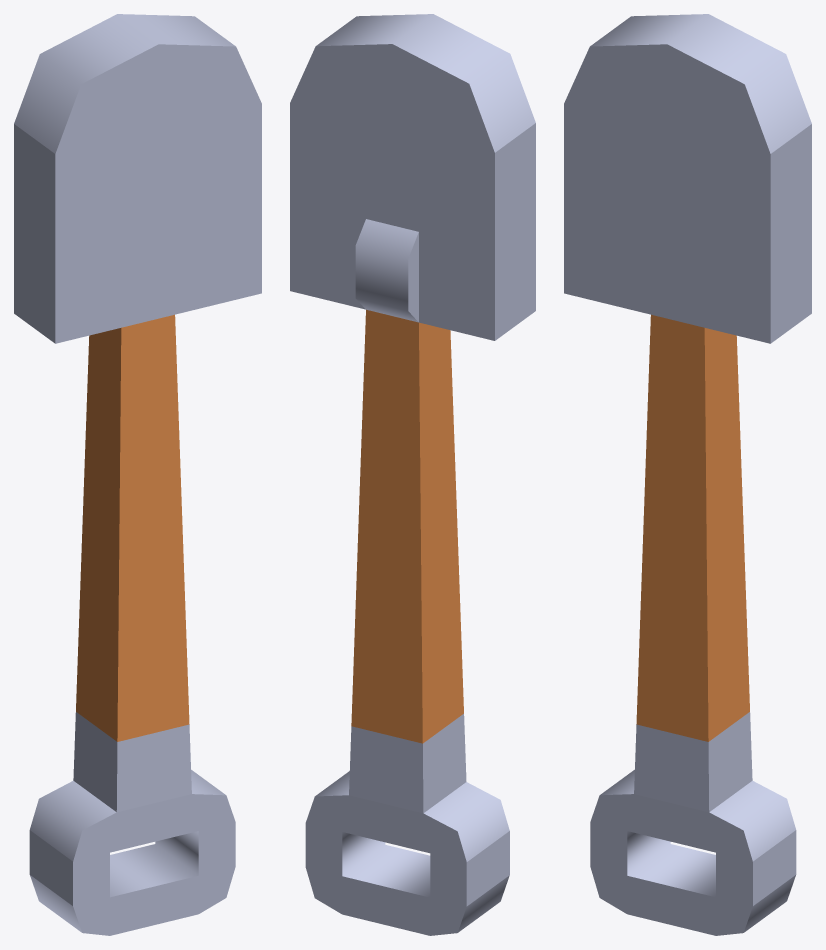
File: shovel.glb
The picture shows the model from 3 angles, left to right: view 1: azimuth 30°, elevation 25°; view 2: azimuth 150°, elevation 25°; view 3: azimuth 330°, elevation 25°; orthographic projection.
Visible parts, largest first — view 1: toolShovel; view 2: toolShovel; view 3: toolShovel.
Boxes of the visible parts, bbox=[...] form: toolShovel: bbox=[14, 14, 261, 935]; toolShovel: bbox=[290, 14, 535, 935]; toolShovel: bbox=[564, 14, 811, 935].
Size of the model in its own units: 0.0709 by 0.29 by 0.0309.
